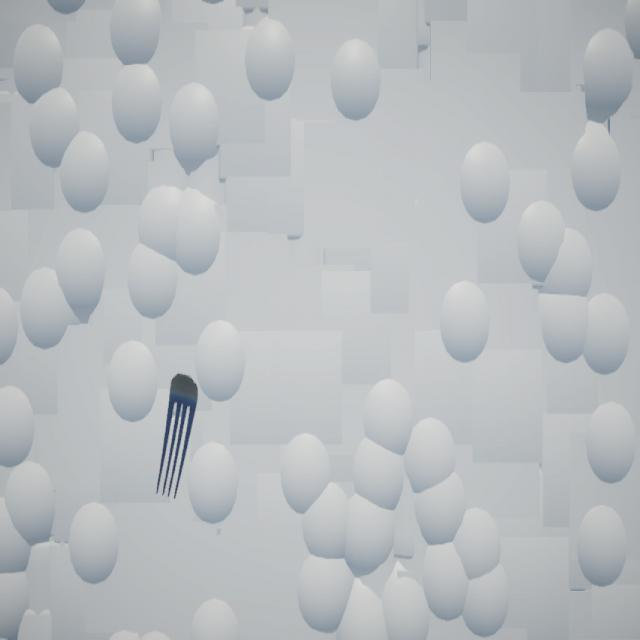top_folk: (157, 374, 199, 500)
